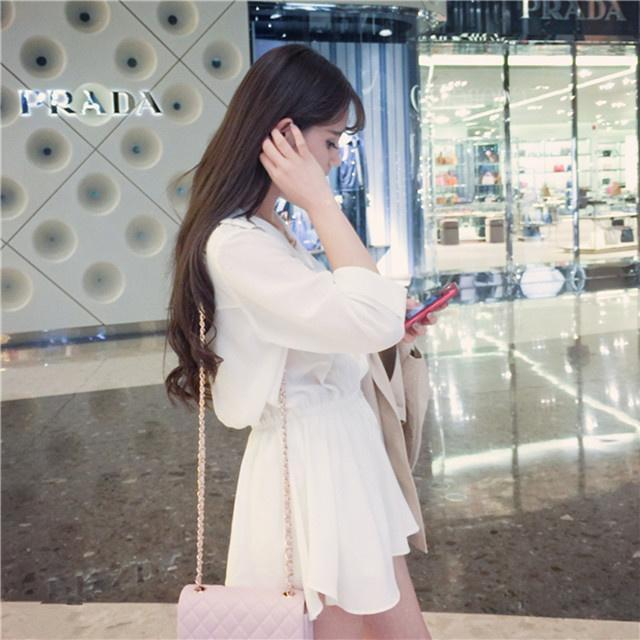long-sleeve-outwear: (174, 182, 430, 616)
